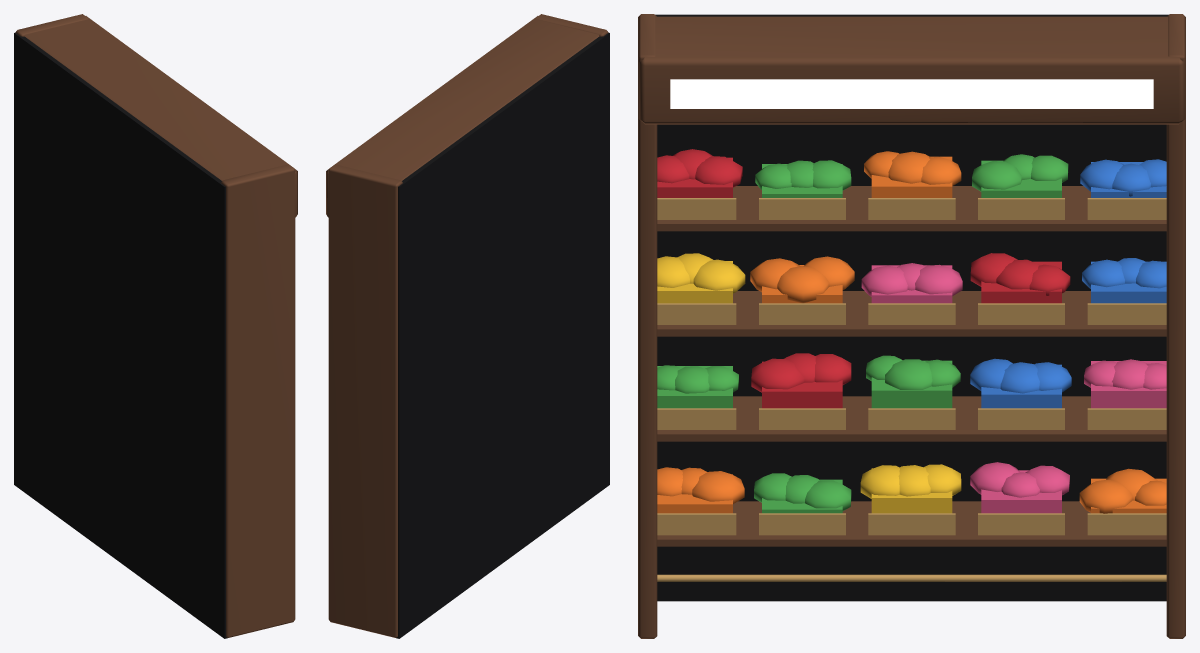
File: candy_wall.glb
3 views of the same model, side by side, from view 1: azimuth 30°, elevation 25°; view 2: azimuth 150°, elevation 25°; view 3: azimuth 270°, elevation 25° (orthographic). The views are drawn at different scales.
Parts seen in each view (by area): view 1: Mesh_Back, Mesh_SideR, Mesh_Header, Mesh_SideL; view 2: Mesh_Back, Mesh_SideL, Mesh_Header, Mesh_SideR; view 3: Mesh_Back, Mesh_Header, Mesh_HeaderGlow, Mesh_SideL, Mesh_SideR, Mesh_Ledge1, Mesh_Ledge2, Mesh_Ledge3, Mesh_Ledge0, Mesh_ScoopRail, Mesh_Lip0_2, Mesh_Lip0_1 (+74 smaller).
Part boxes in pixels (<box>): Mesh_Back: <box>14,32,227,638</box>; Mesh_SideR: <box>221,164,295,637</box>; Mesh_Header: <box>24,16,297,217</box>; Mesh_SideL: <box>15,14,88,36</box>; Mesh_Back: <box>396,32,609,638</box>; Mesh_SideL: <box>328,164,402,637</box>; Mesh_Header: <box>326,16,599,217</box>; Mesh_SideR: <box>535,14,608,36</box>; Mesh_Back: <box>655,14,1168,601</box>; Mesh_Header: <box>638,16,1185,124</box>; Mesh_HeaderGlow: <box>670,79,1153,108</box>; Mesh_SideL: <box>1166,14,1185,638</box>; Mesh_SideR: <box>638,14,657,638</box>; Mesh_Ledge1: <box>657,396,1166,441</box>; Mesh_Ledge2: <box>657,291,1166,336</box>; Mesh_Ledge3: <box>657,186,1166,231</box>; Mesh_Ledge0: <box>657,501,1166,546</box>; Mesh_ScoopRail: <box>657,574,1166,581</box>; Mesh_Lip0_2: <box>868,513,955,535</box>; Mesh_Lip0_1: <box>978,513,1064,535</box>.
Bounding box in the file's own units: 0.35 × 2 × 1.7.
